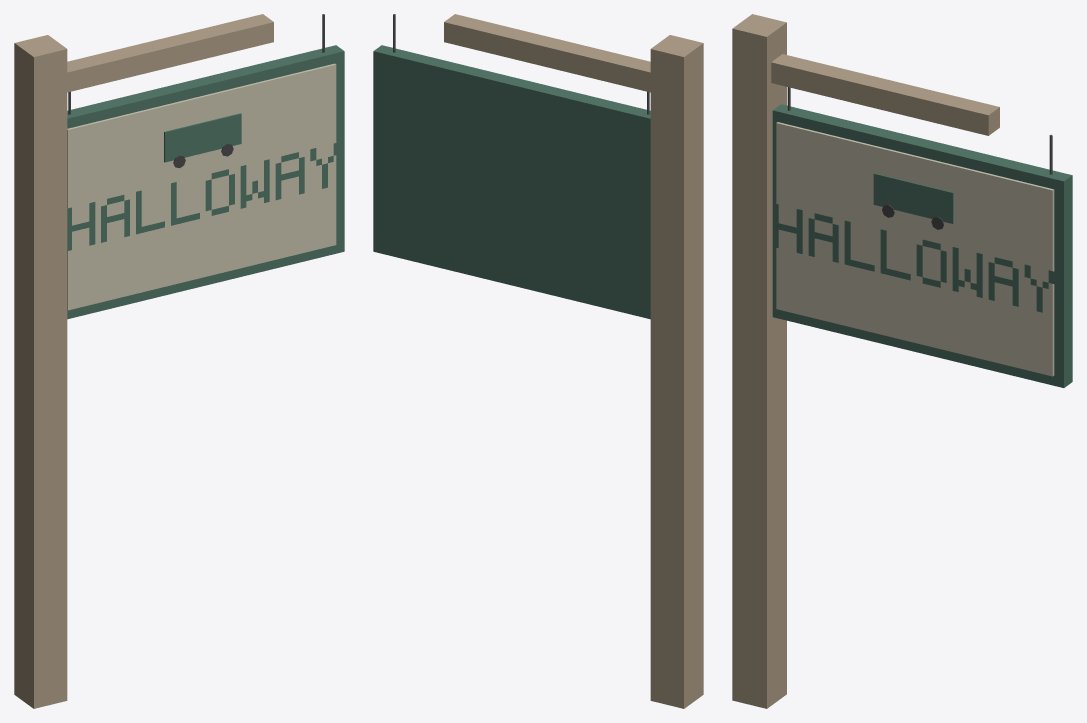
Rendered from town_sign_halloway_a.glb.
3 renders of one model, left to right at view 1: azimuth 30°, elevation 25°; view 2: azimuth 150°, elevation 25°; view 3: azimuth 330°, elevation 25°, orthographic. The views are drawn at different scales.
Parts seen in each view (by area): view 1: body; view 2: body; view 3: body.
Part boxes in pixels (left/top/right/bottom): body: left=14, top=14, right=344, bottom=708; body: left=373, top=14, right=703, bottom=708; body: left=732, top=14, right=1072, bottom=708.
Size of what is drawn, in the model's own units: 1.32 by 2.6 by 0.14.
